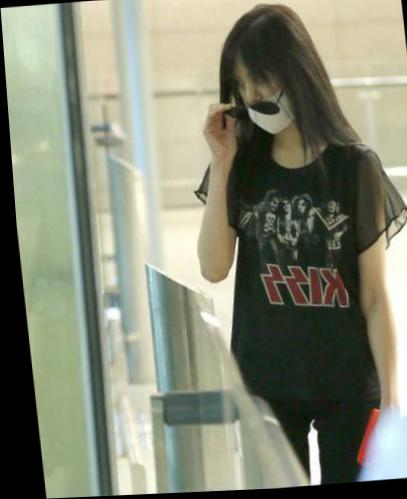WRONG: (234, 64, 303, 137)
